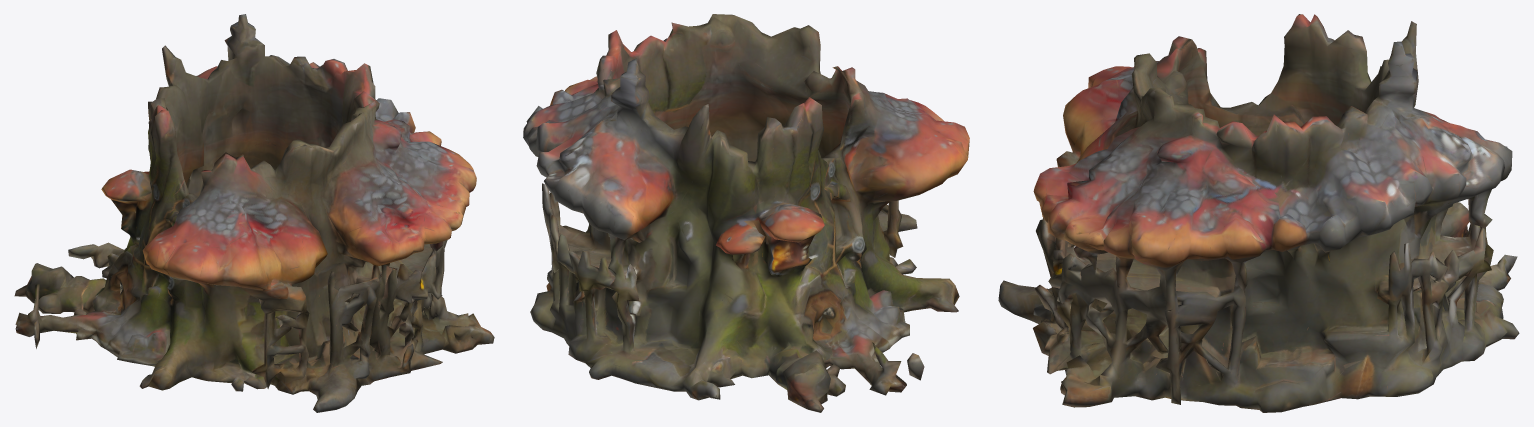
The model's file is main base.glb.
3 views of the same model, side by side, from view 1: azimuth 30°, elevation 25°; view 2: azimuth 150°, elevation 25°; view 3: azimuth 270°, elevation 25° (orthographic). The views are drawn at different scales.
Bounding box in the file's own units: 1.82 × 1.21 × 1.87.
Materials: 1 (1 with a texture image).
